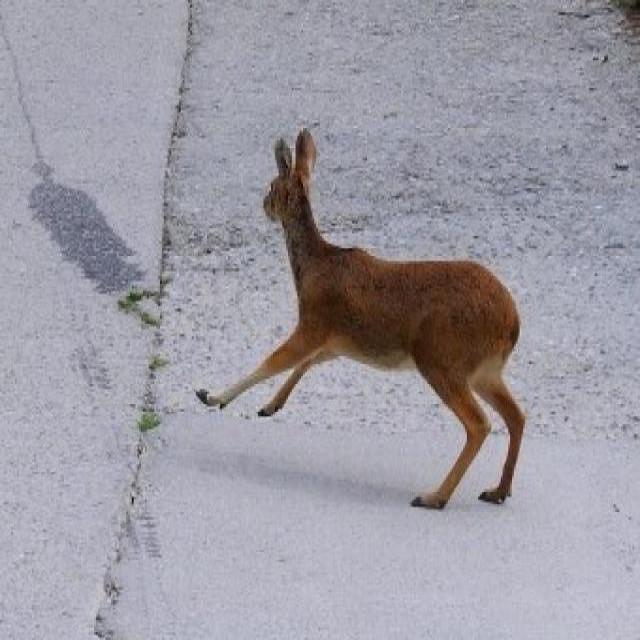deer: (186, 130, 548, 526)
